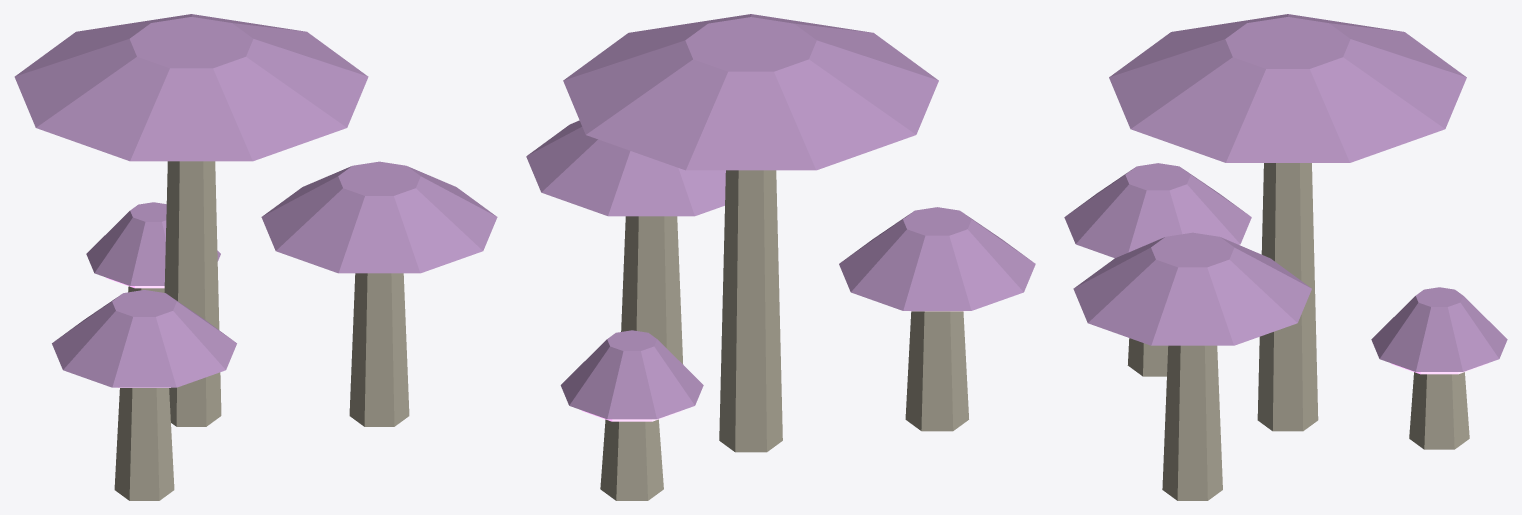
The model's file is fungus.glb.
3 views of the same model, side by side, from view 1: azimuth 30°, elevation 25°; view 2: azimuth 150°, elevation 25°; view 3: azimuth 270°, elevation 25° (orthographic). The views are drawn at different scales.
Parts seen in each view (by area): view 1: fungus; view 2: fungus; view 3: fungus.
Boxes of the visible parts, box(x1,y1,x2,y2) form: fungus: box(14, 14, 497, 500); fungus: box(526, 14, 1035, 500); fungus: box(1064, 14, 1507, 500).
Size of the model in its own units: 1.16 by 0.96 by 1.02.
